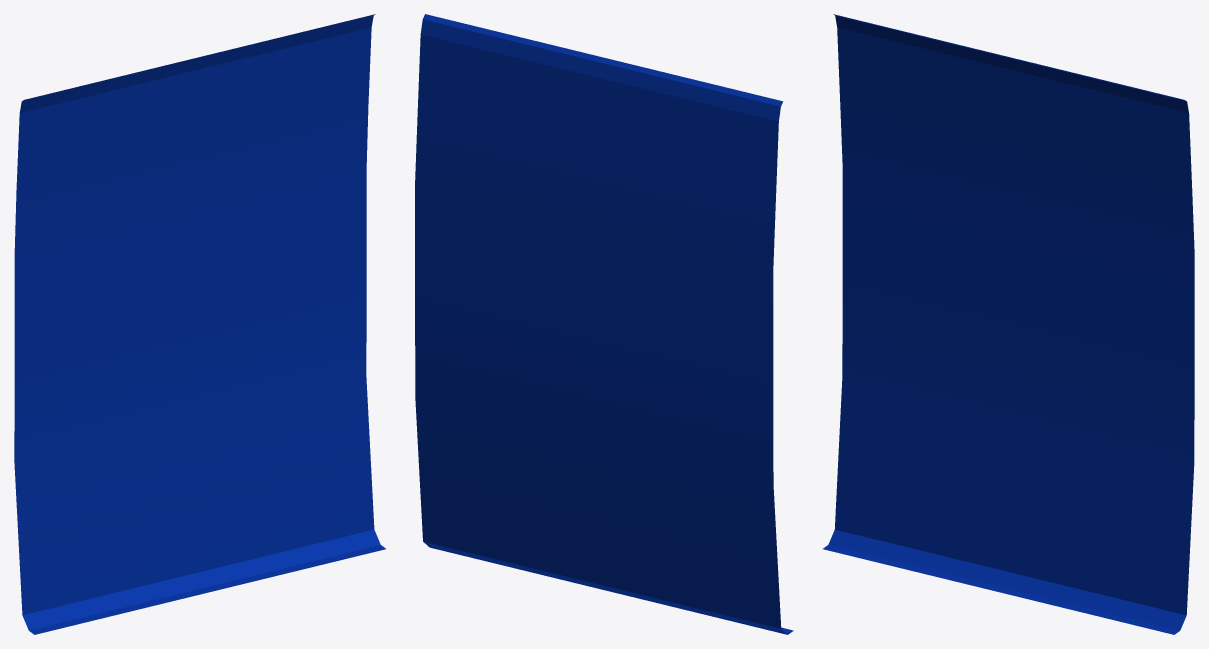
The model's file is asset_murext_2x4_simple.fbx.
The picture shows the model from 3 angles, left to right: view 1: azimuth 30°, elevation 25°; view 2: azimuth 150°, elevation 25°; view 3: azimuth 330°, elevation 25°; orthographic projection.
Visible parts, largest first — view 1: module_murext4x4_low3; view 2: module_murext4x4_low3; view 3: module_murext4x4_low3.
Part boxes in pixels (x1,y1,x2,y2): module_murext4x4_low3: (14, 14, 385, 634); module_murext4x4_low3: (415, 14, 793, 634); module_murext4x4_low3: (823, 14, 1194, 634).
Bounding box in the file's own units: 2 × 2.86 × 0.1981.
